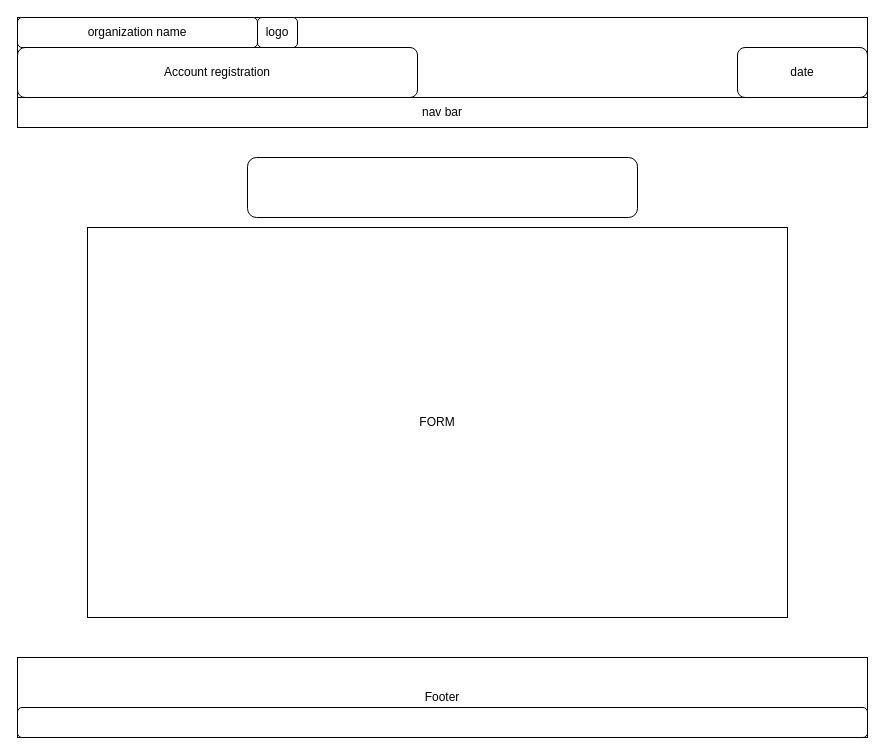
Image size: 885x755. Some labels were removed from this diagram. Each missing label, with the box of its shape:
Account registration form: (246, 156, 638, 218)
Header: (16, 16, 868, 98)
miscellaneous information: (16, 706, 868, 738)
